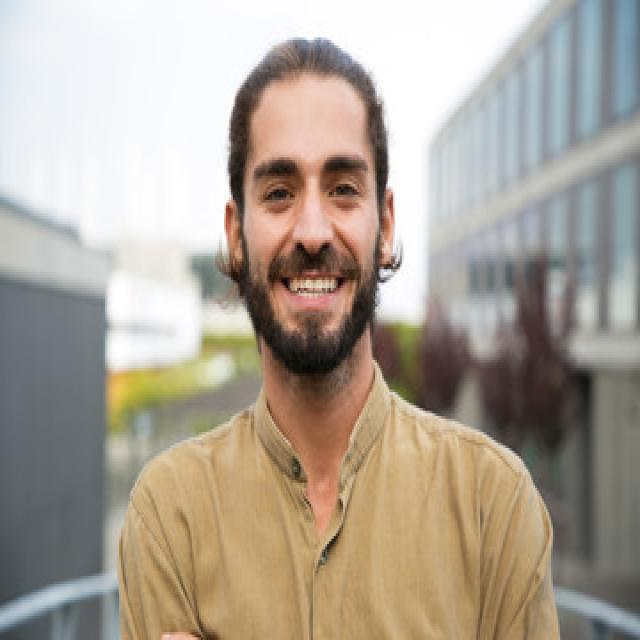person-without-mask: (132, 27, 578, 640)
